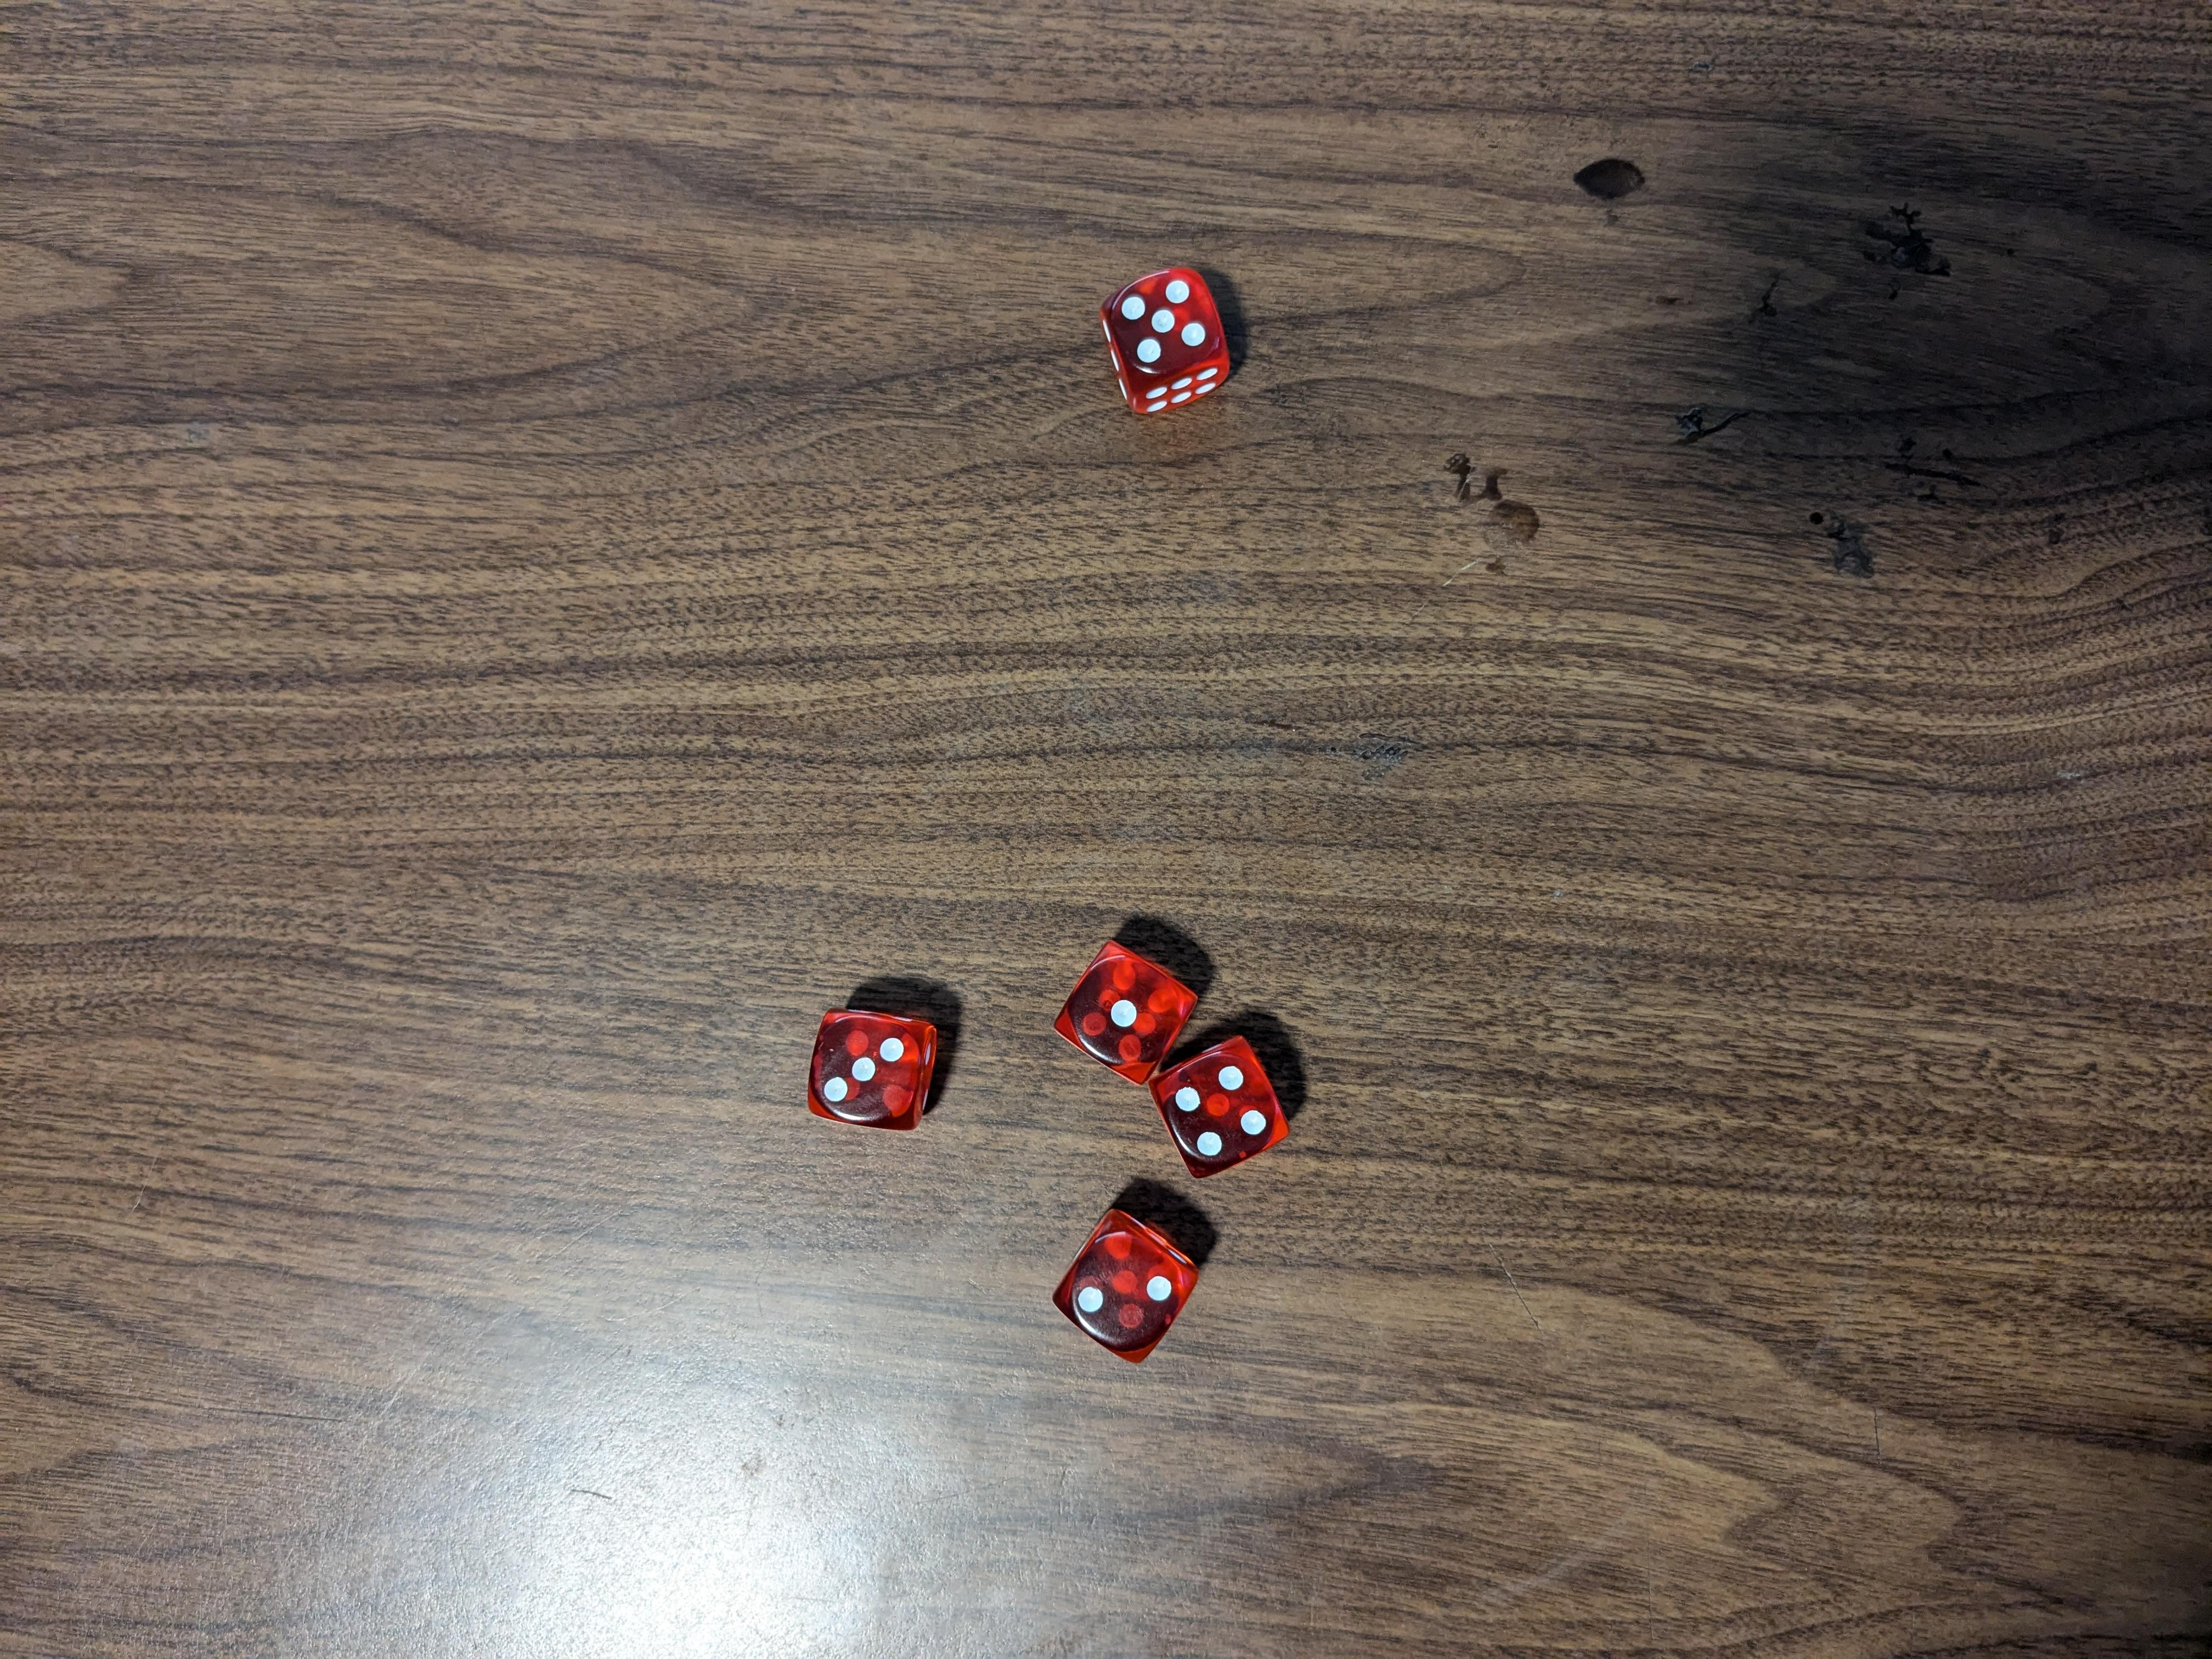five: (1103, 263, 1230, 406)
four: (1151, 1037, 1294, 1180)
one: (1057, 932, 1202, 1080)
three: (803, 1011, 939, 1138)
two: (1049, 1213, 1202, 1364)
